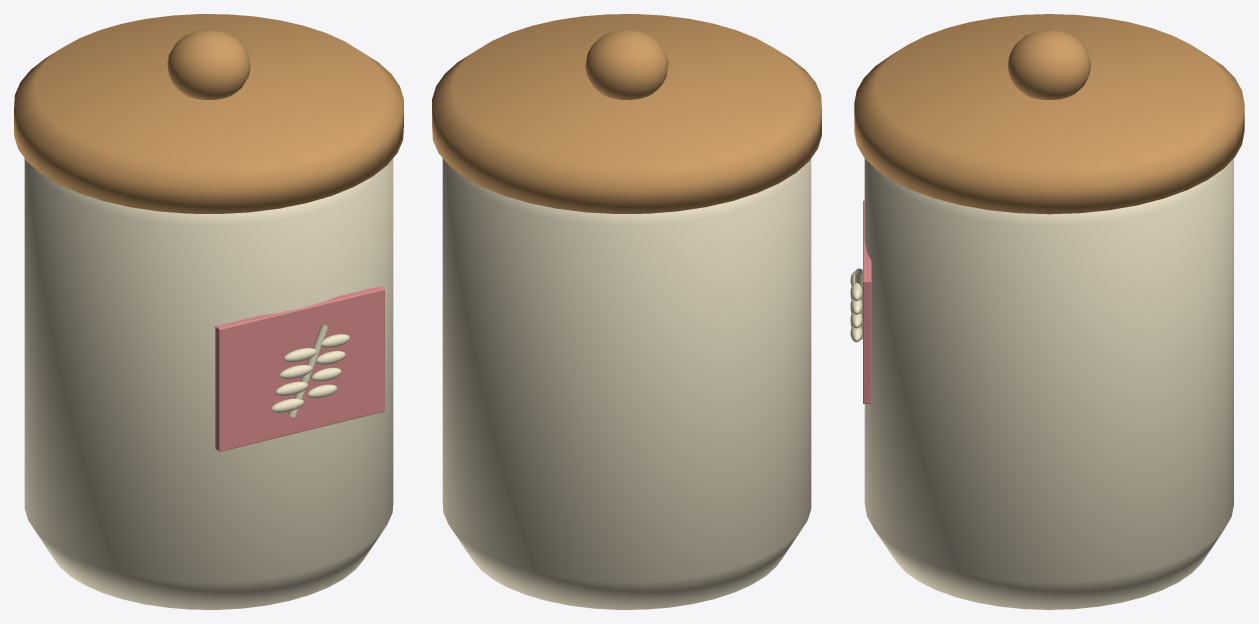
Rendered from FlourCanister.fbx.
The picture shows the model from 3 angles, left to right: view 1: azimuth 30°, elevation 25°; view 2: azimuth 150°, elevation 25°; view 3: azimuth 270°, elevation 25°; orthographic projection.
Visible parts, largest first — view 1: FlourCanister; view 2: FlourCanister; view 3: FlourCanister.
Part boxes in pixels (<box>): FlourCanister: <box>14,14,403,609</box>; FlourCanister: <box>432,14,821,609</box>; FlourCanister: <box>850,14,1244,609</box>.
Size of the model in its own units: 112 by 161 by 113.
